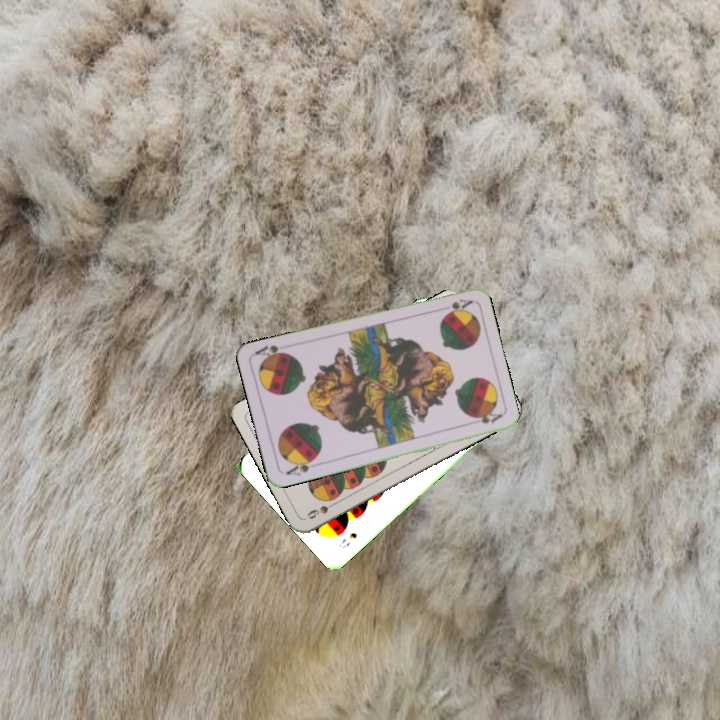S8: (335, 528, 360, 552)
S9: (303, 497, 340, 522)
SA: (282, 454, 319, 478), (434, 295, 474, 316)
